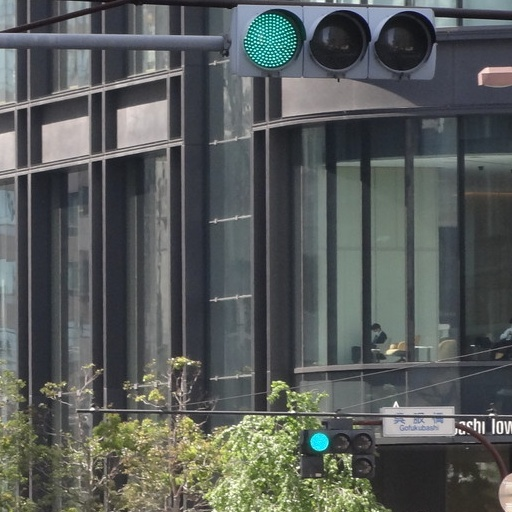Traffic_Signal_Blue: (241, 6, 440, 80)
